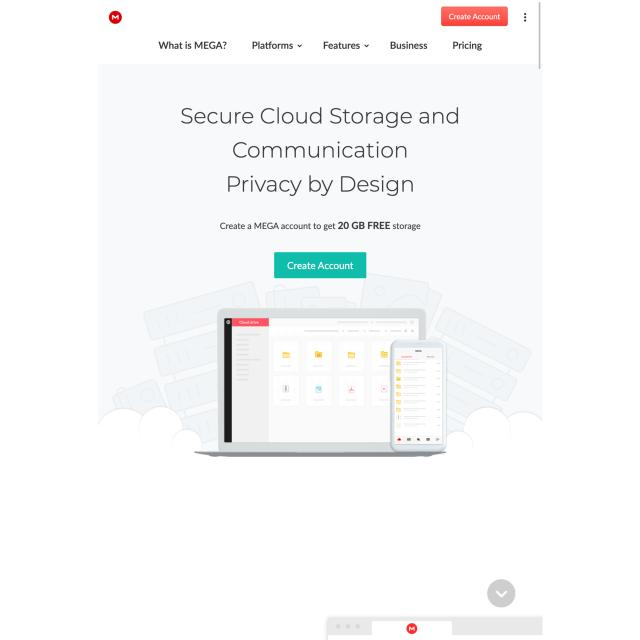logo: (107, 9, 124, 25)
navigation: (156, 37, 488, 53)
